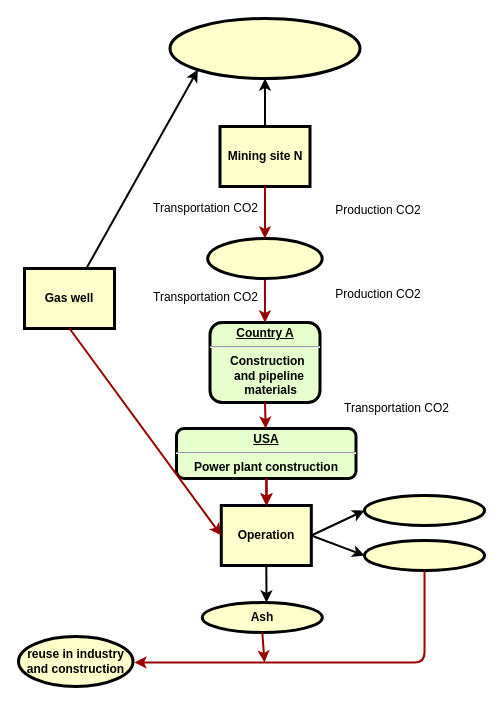
Some shapes in this 503 by 705 pixel diagram are drawn without their labels. Here are the shapes that lost their labels. From the top down, the centre of each, then its label:
point (264, 48): Mining waste, CO2
point (264, 258): Raw material
point (424, 510): Maintenance waste
point (424, 555): Disposal waste
